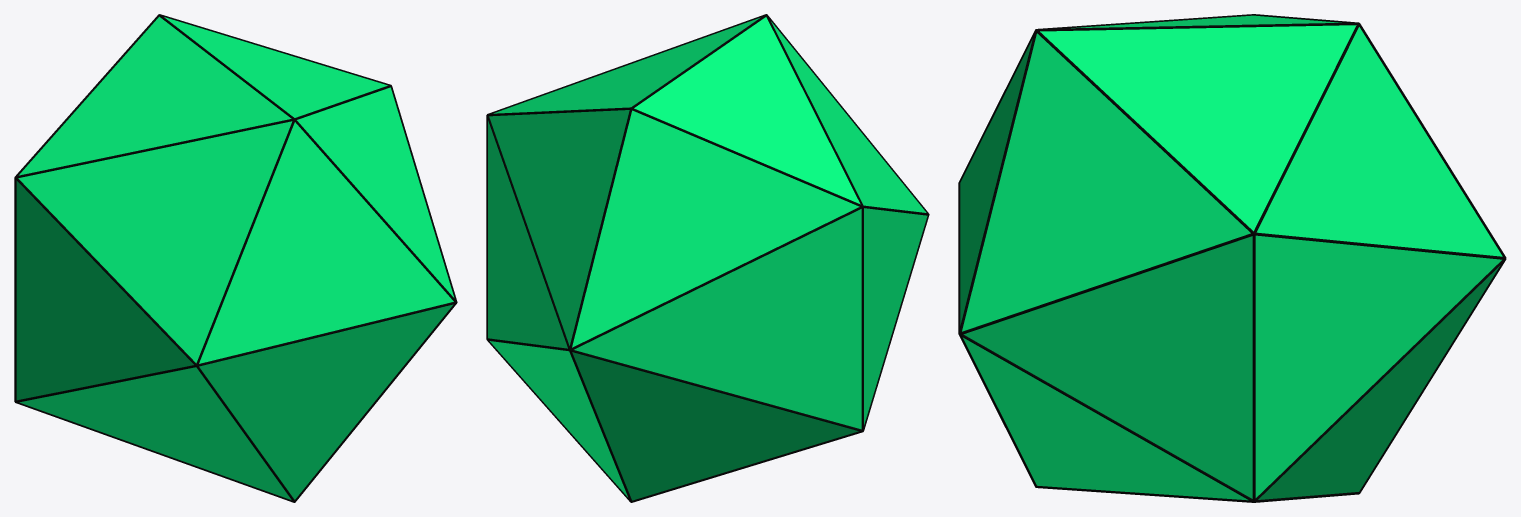
The model's file is quiz_118.dae.
The picture shows the model from 3 angles, left to right: view 1: azimuth 30°, elevation 25°; view 2: azimuth 150°, elevation 25°; view 3: azimuth 270°, elevation 25°; orthographic projection. The views are drawn at different scales.
Parts seen in each view (by area): view 1: visgeom_0, geometry_edges0_0_quiz_118.off; view 2: visgeom_0, geometry_edges0_0_quiz_118.off; view 3: visgeom_0, geometry_edges0_0_quiz_118.off.
Boxes of the visible parts, bbox=[...] form: visgeom_0: bbox=[16, 16, 454, 499]; geometry_edges0_0_quiz_118.off: bbox=[14, 14, 457, 502]; visgeom_0: bbox=[488, 17, 927, 500]; geometry_edges0_0_quiz_118.off: bbox=[486, 14, 929, 502]; visgeom_0: bbox=[960, 15, 1502, 500]; geometry_edges0_0_quiz_118.off: bbox=[958, 14, 1506, 502].
Size of the model in its own units: 1.72 by 1.82 by 1.72.
